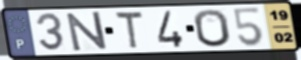3: (33, 11, 67, 54)
4: (157, 10, 185, 49)
5: (231, 6, 265, 48)
N: (64, 10, 110, 53)
O: (192, 8, 234, 49)
T: (114, 10, 146, 50)
